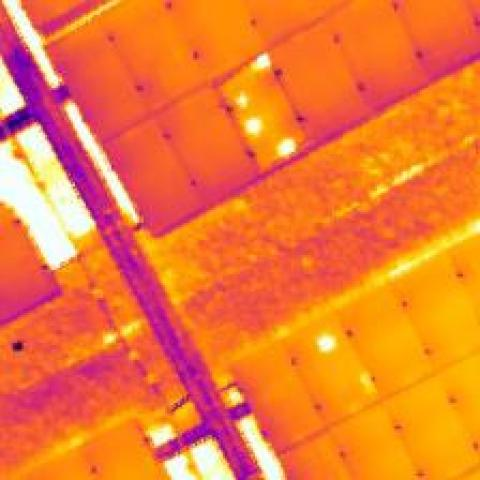fault: (310, 330, 340, 356), (247, 47, 272, 73), (358, 370, 381, 398), (272, 135, 298, 159), (240, 114, 266, 137), (232, 90, 248, 111)
